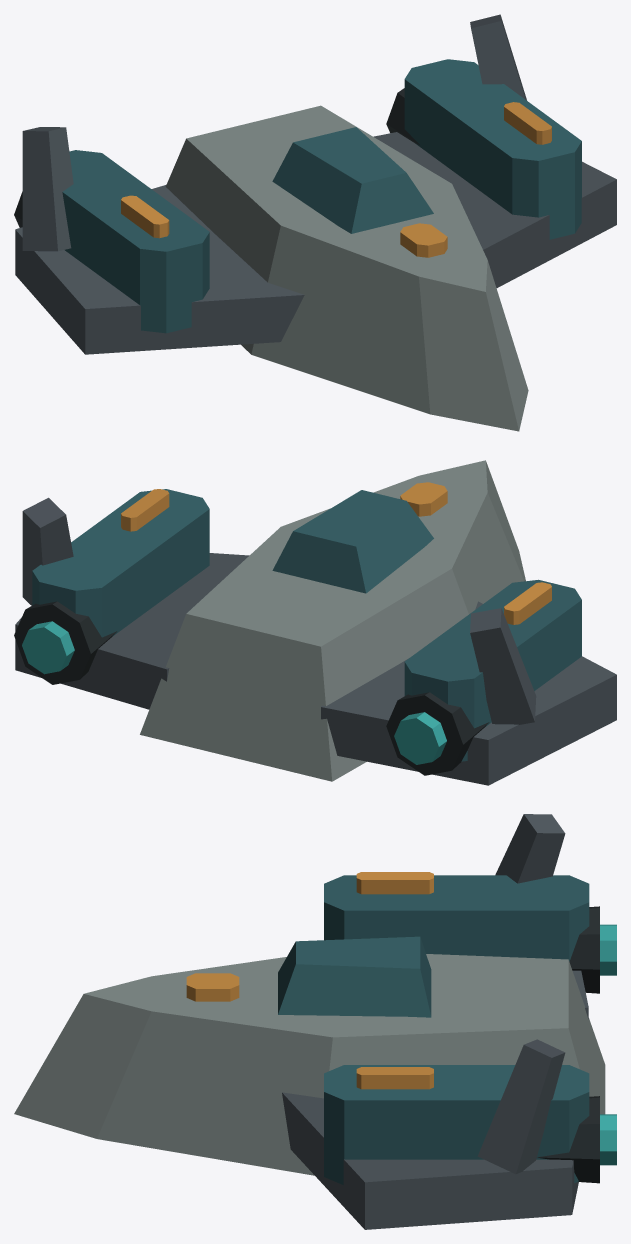
File: medium_ship.glb
The picture shows the model from 3 angles, top to bottom: view 1: azimuth 30°, elevation 25°; view 2: azimuth 150°, elevation 25°; view 3: azimuth 270°, elevation 25°; orthographic projection. The views are drawn at different scales.
Parts seen in each view (by area): view 1: medium_ship; view 2: medium_ship; view 3: medium_ship.
Boxes of the visible parts, bbox=[...] form: medium_ship: bbox=[14, 14, 616, 431]; medium_ship: bbox=[14, 460, 616, 785]; medium_ship: bbox=[14, 814, 616, 1229].
Bounding box in the file's own units: 1.16 × 0.3686 × 1.09.
